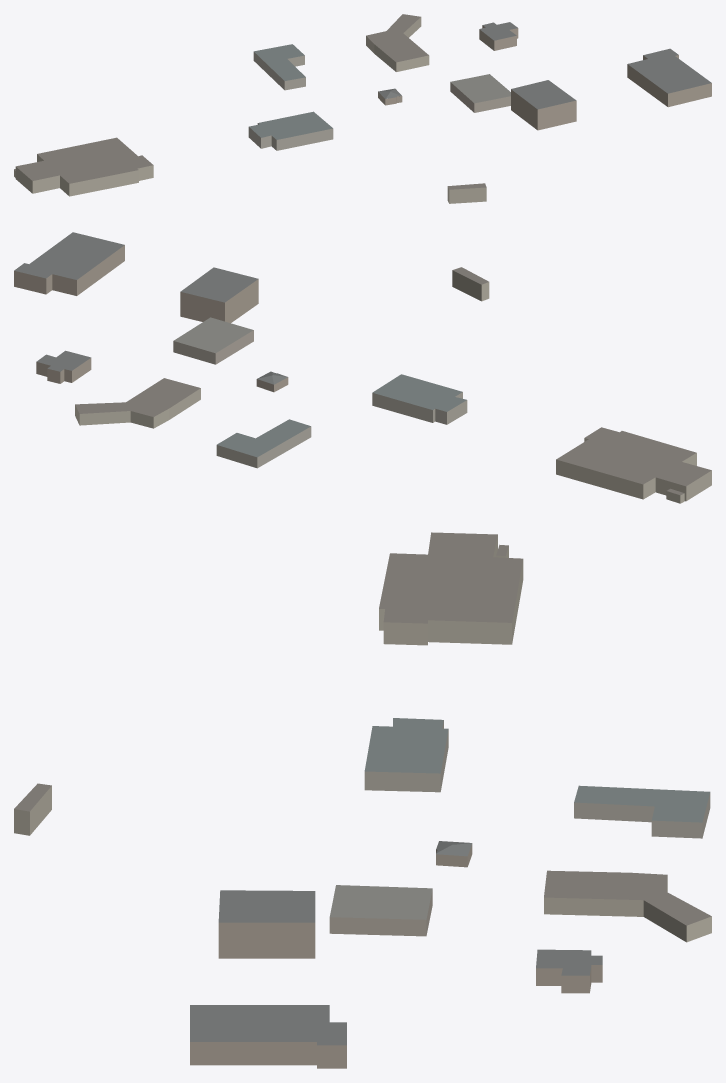
File: f6db168c1c36-chunk-1200_11837.glb
3 views of the same model, one above another, from view 1: azimuth 30°, elevation 25°; view 2: azimuth 150°, elevation 25°; view 3: azimuth 270°, elevation 25° (orthographic). The views are drawn at different scales.
Visible parts, largest first — view 1: building_134458, building_19909, building_136543, building_98032, building_157165, building_33952, building_50164, building_138551, building_107927, building_36953; view 2: building_134458, building_19909, building_157165, building_136543, building_98032, building_33952, building_50164, building_138551, building_107927, building_36953; view 3: building_134458, building_19909, building_157165, building_136543, building_98032, building_33952, building_50164, building_138551, building_107927, building_36953.
Part boxes in pixels (box(x1,y1,x2,y2)): building_134458: box(15, 137, 153, 196); building_19909: box(627, 48, 711, 107); building_136543: box(511, 80, 576, 130); building_98032: box(248, 111, 333, 150); building_157165: box(366, 14, 429, 71); building_33952: box(253, 44, 305, 90); building_50164: box(450, 74, 510, 112); building_138551: box(479, 22, 518, 50); building_107927: box(447, 183, 486, 203); building_36953: box(378, 88, 402, 105); building_134458: box(556, 427, 711, 501); building_19909: box(14, 232, 124, 295); building_157165: box(75, 378, 200, 428); building_136543: box(180, 267, 258, 323); building_98032: box(372, 374, 467, 424); building_33952: box(216, 419, 311, 468); building_50164: box(173, 317, 253, 364); building_138551: box(36, 350, 91, 383); building_107927: box(452, 267, 489, 301); building_36953: box(256, 371, 288, 392); building_134458: box(379, 532, 523, 645); building_19909: box(190, 1005, 346, 1068); building_157165: box(544, 870, 711, 942); building_136543: box(218, 890, 315, 958); building_98032: box(364, 718, 448, 792); building_33952: box(574, 785, 710, 838); building_50164: box(329, 885, 432, 936); building_138551: box(536, 949, 602, 993); building_107927: box(14, 783, 51, 835); building_36953: box(436, 841, 472, 867).
Bounding box in the file's own units: 345 × 11.3 × 198.
